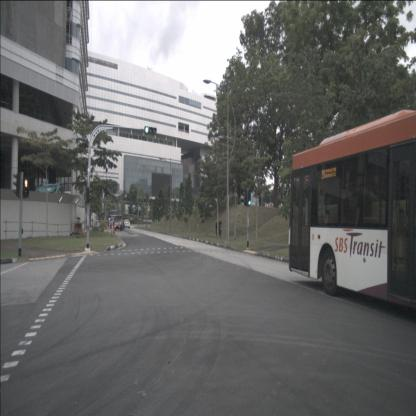vehicle-bus-rigid: (288, 107, 416, 314)
vehicle-car: (124, 219, 130, 228)
vehicle-motorcycle: (216, 220, 222, 236)
vehicle-truck: (113, 216, 124, 231), (110, 210, 118, 229)
